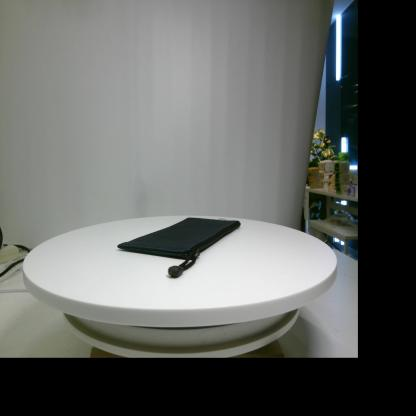Stationery: (117, 217, 241, 278)
